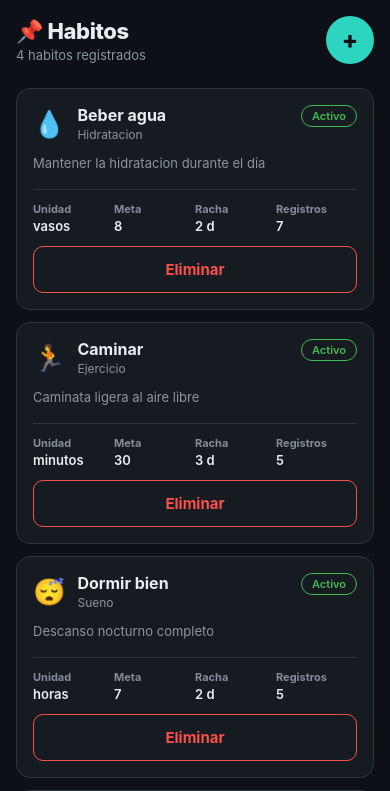
Test: HabitosScreen › cancelar la confirmacion no elimina nada
The width and height of the screenshot is (390, 791).
Click the 1st button "Eliminar".
click(195, 270)  # box [33,246,357,293]
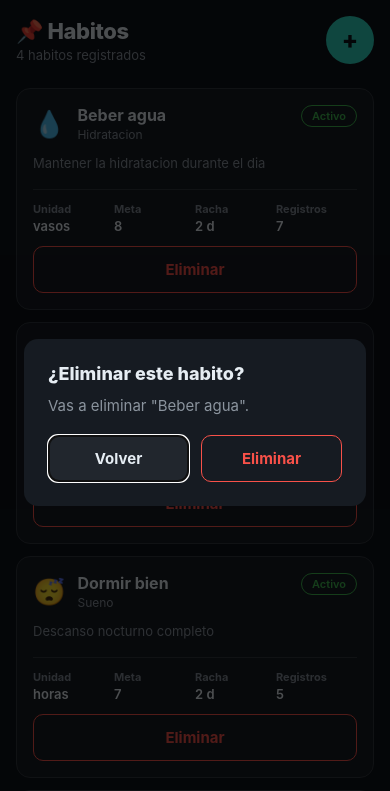
Click the button "Volver".
click(118, 458)  # box [48,434,189,482]
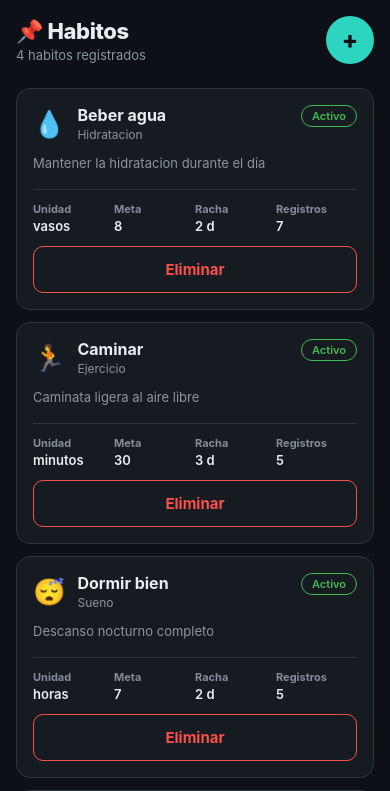
Expected: the text "Beber agua" is shown, [77,105,166,125]
Expected: the text "¿Eliminar este habito?" is gone
